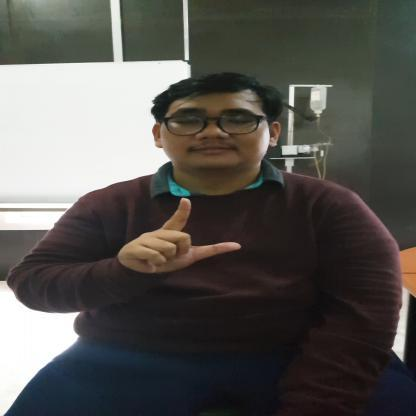L: (113, 198, 238, 278)
